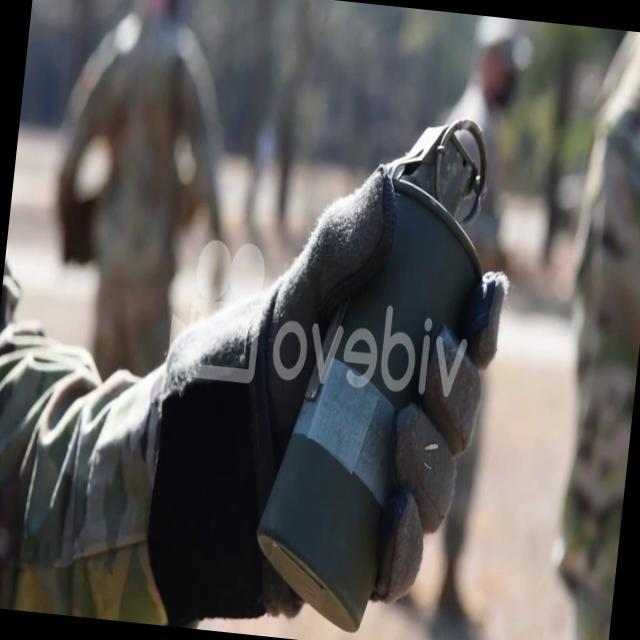grenade: (246, 94, 507, 636)
